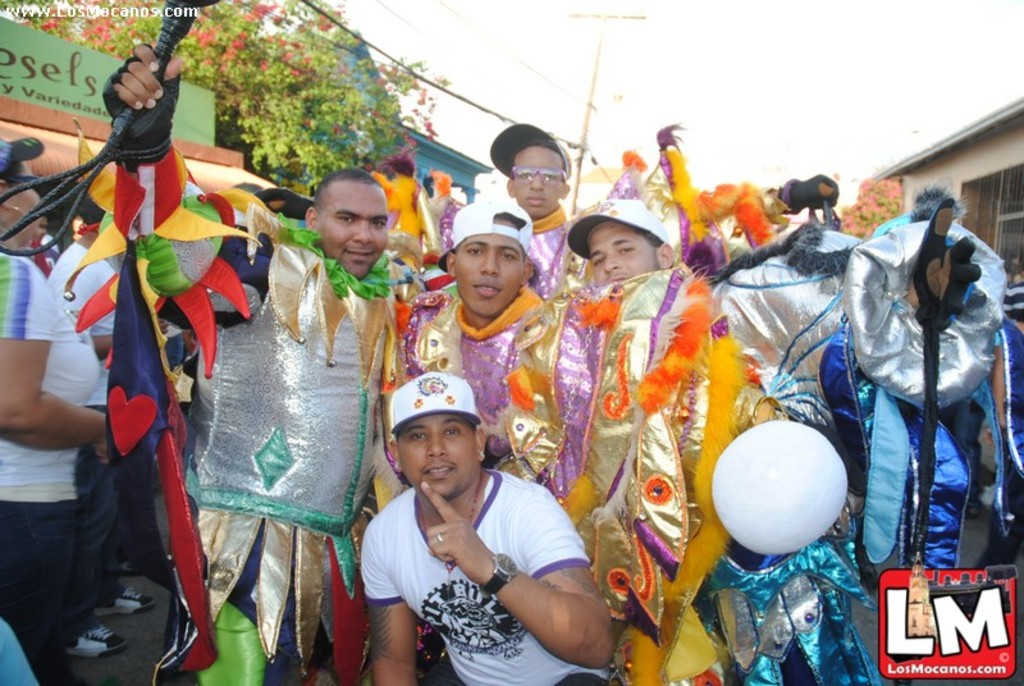Ball: (710, 421, 850, 555)
